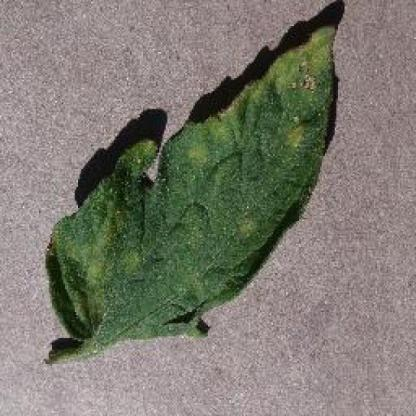Tomato_Leaf_Mold: (50, 34, 331, 336)
